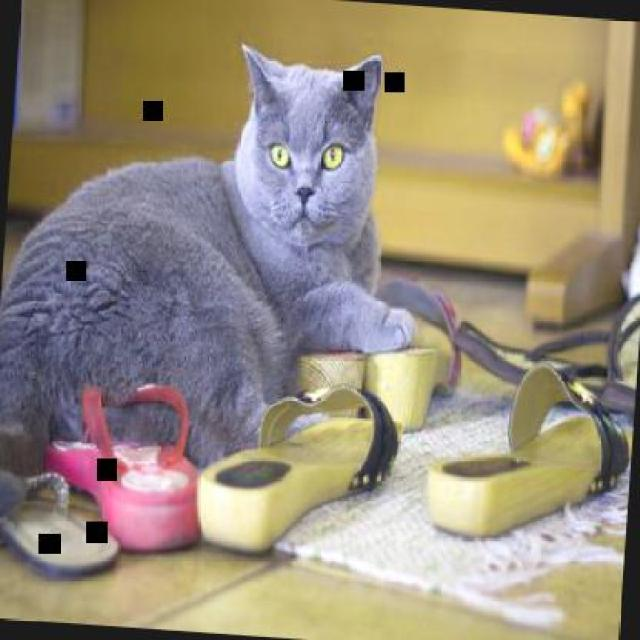cat: (0, 26, 435, 555)
